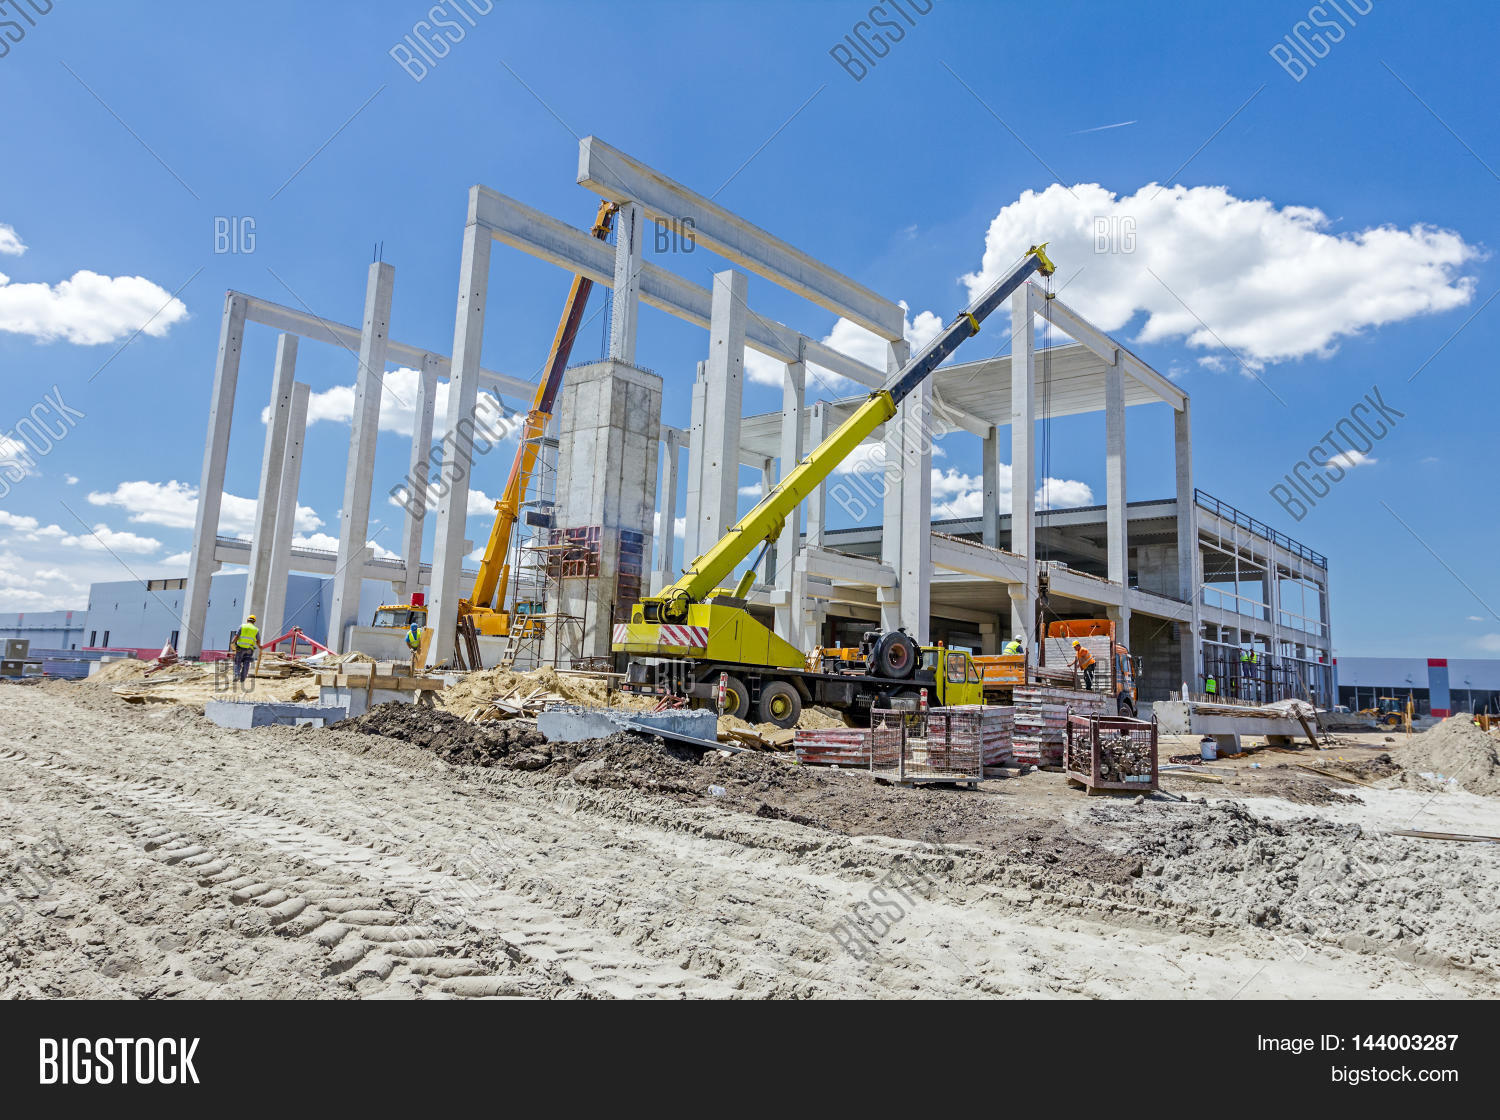crane: (607, 231, 1058, 720)
